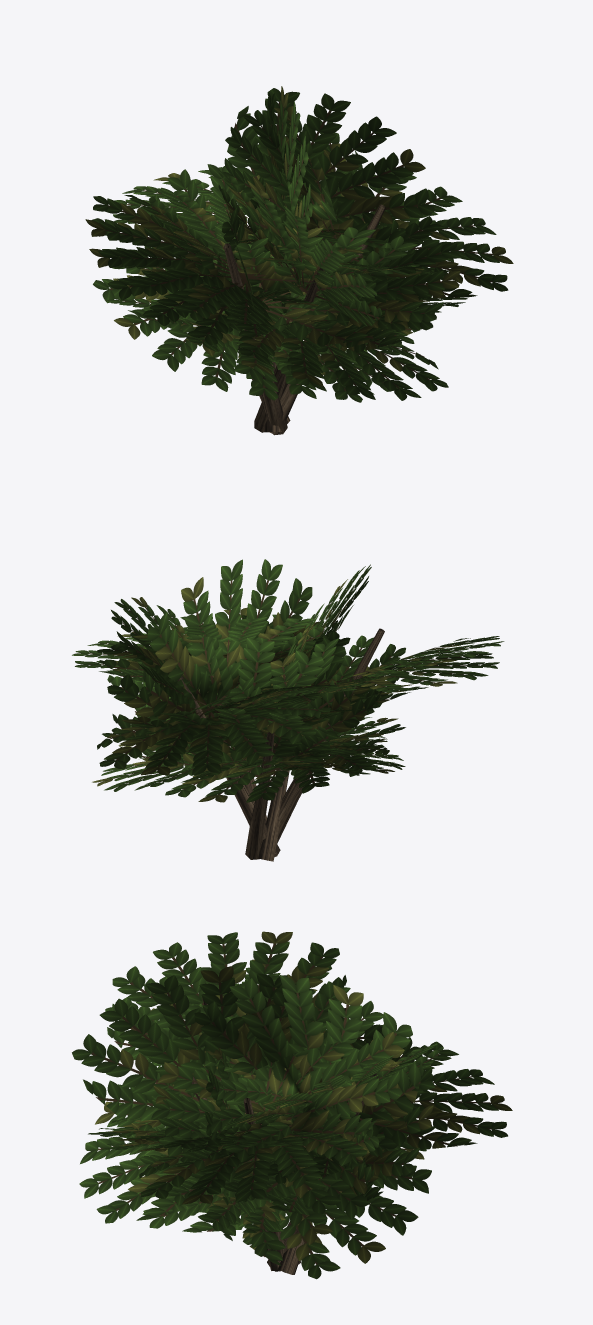
Rendered from ENV_Bush_02.fbx.
3 views of the same model, one above another, from view 1: azimuth 30°, elevation 25°; view 2: azimuth 150°, elevation 25°; view 3: azimuth 270°, elevation 25° (orthographic). The views are drawn at different scales.
Visible parts, largest first — view 1: ENV_Bush_02_LOD0; view 2: ENV_Bush_02_LOD0; view 3: ENV_Bush_02_LOD0.
Boxes of the visible parts, bbox=[...] form: ENV_Bush_02_LOD0: bbox=[85, 86, 513, 435]; ENV_Bush_02_LOD0: bbox=[72, 559, 504, 861]; ENV_Bush_02_LOD0: bbox=[72, 931, 512, 1279].
Size of what is drawn, in the model's own units: 2.31 by 1.63 by 2.2.
